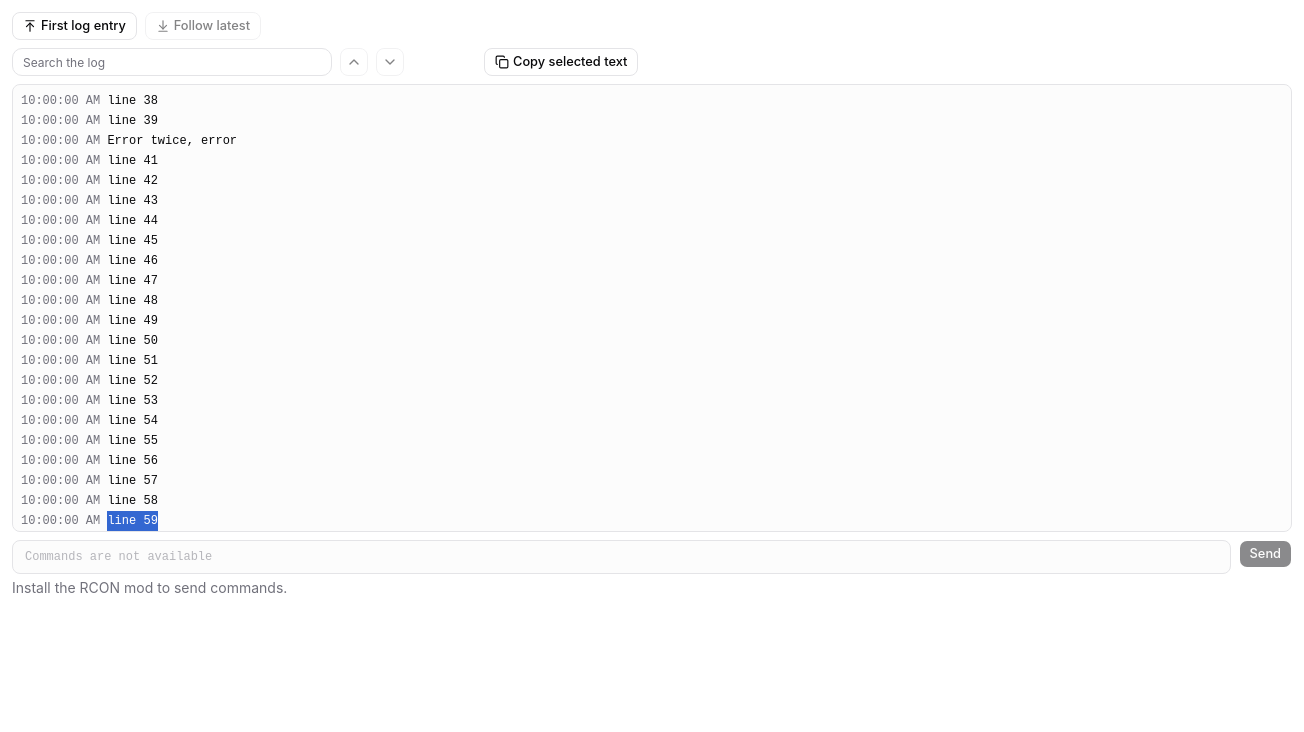
Test case: copying the selected text › copies exactly what is selected and says so
(page scrolled)
Click the button "Copy selected text" at (561, 62), box [484,48,638,76]
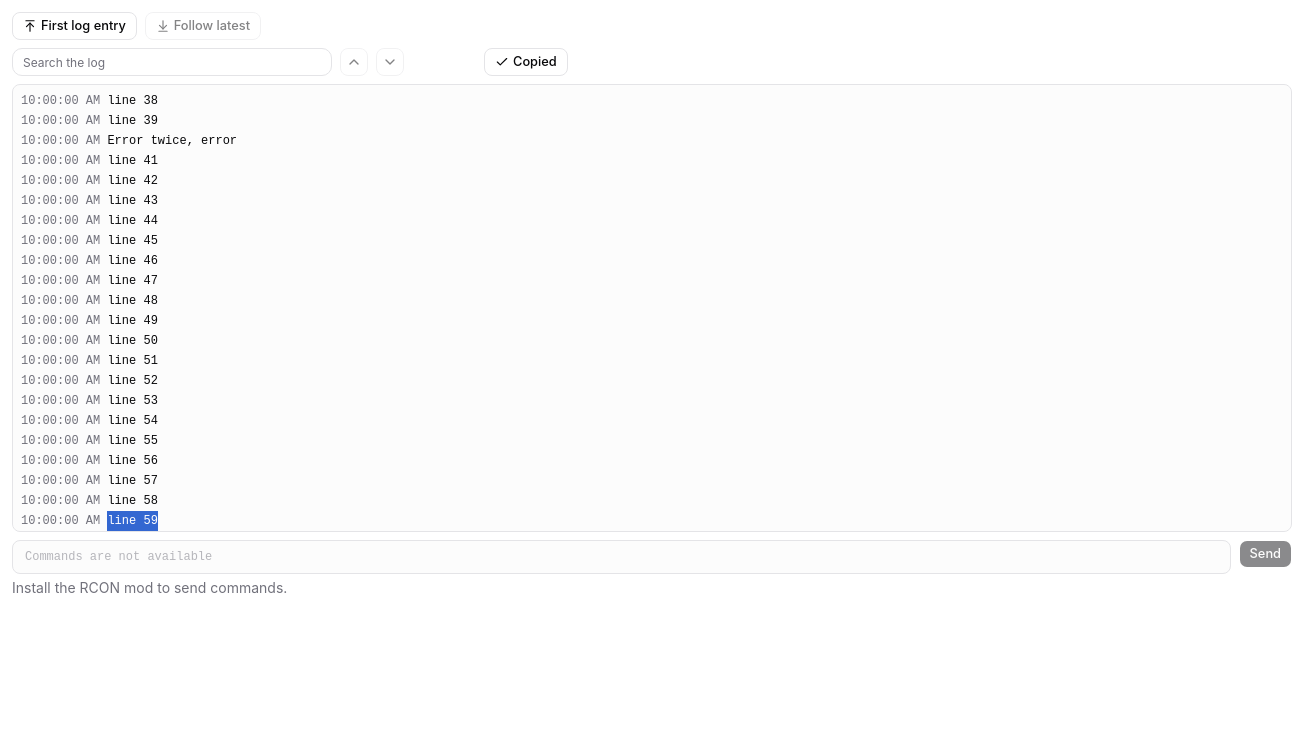
Expected: the button "Copied" is shown, [484,48,568,76]
